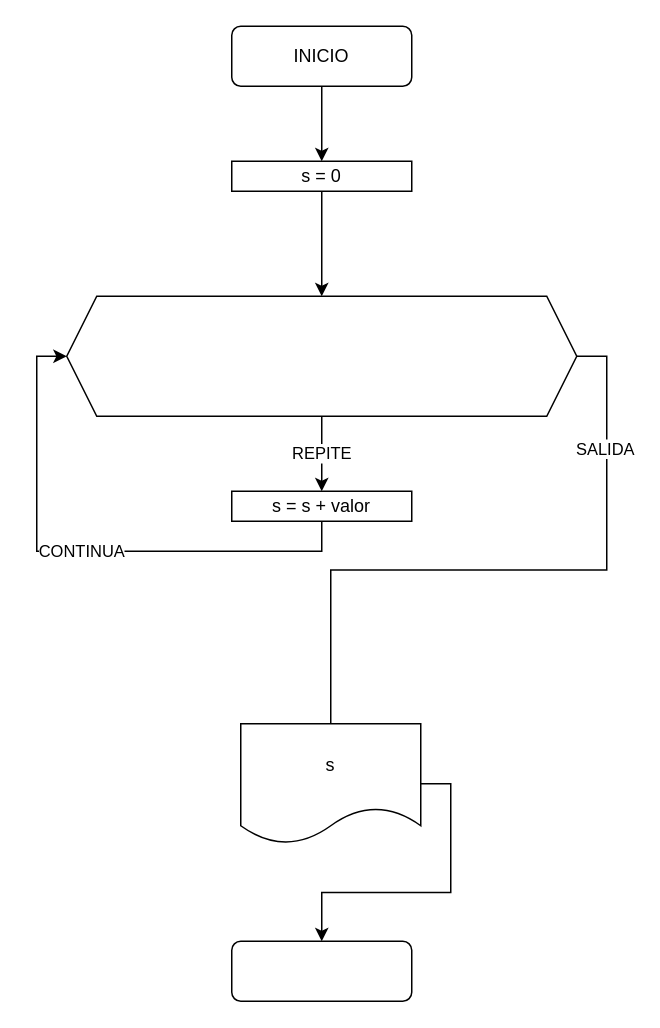
Image size: 660x1028. Some labels were removed from this diagram. Each missing label, with the box of its shape:
FIN: (230, 940, 412, 1001)
valor = 201 : valor <= 581 : valor = valor + 4: (65, 295, 577, 416)
